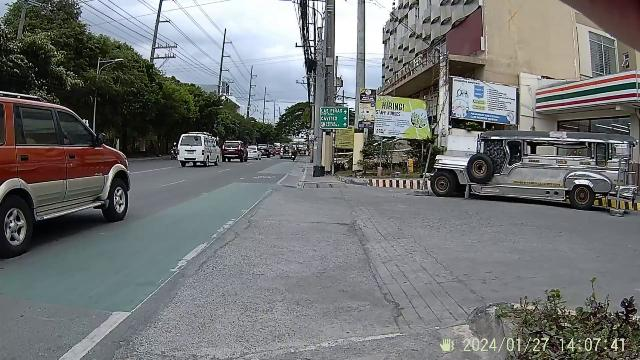car: (438, 110, 630, 210)
utility_post: (302, 0, 372, 174)
